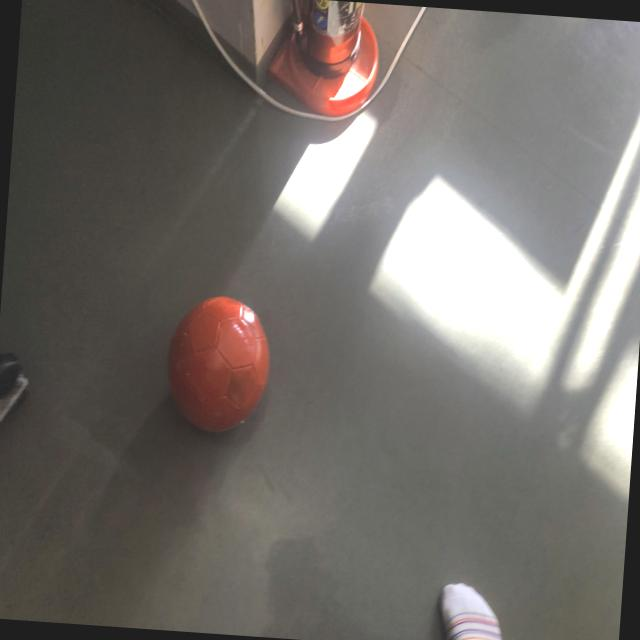red_ball: (162, 292, 274, 440)
